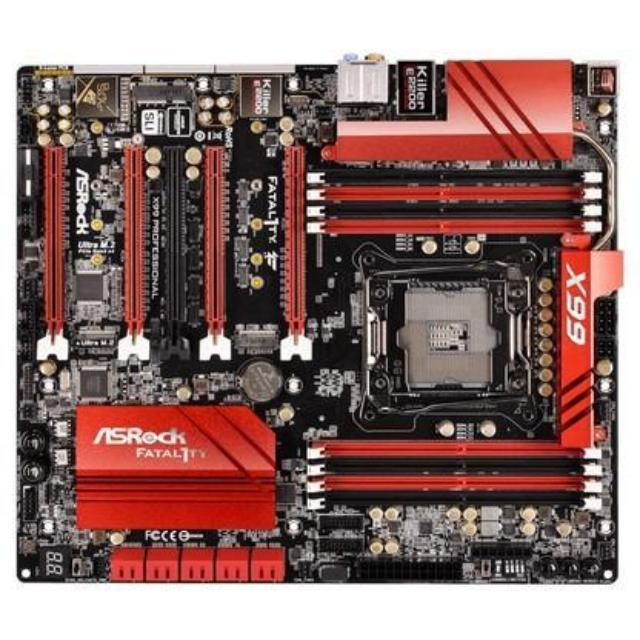Mainboard: (1, 51, 626, 589)
